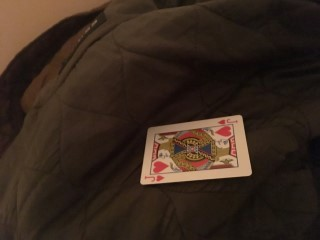JackOfHearts: (139, 114, 252, 184)
